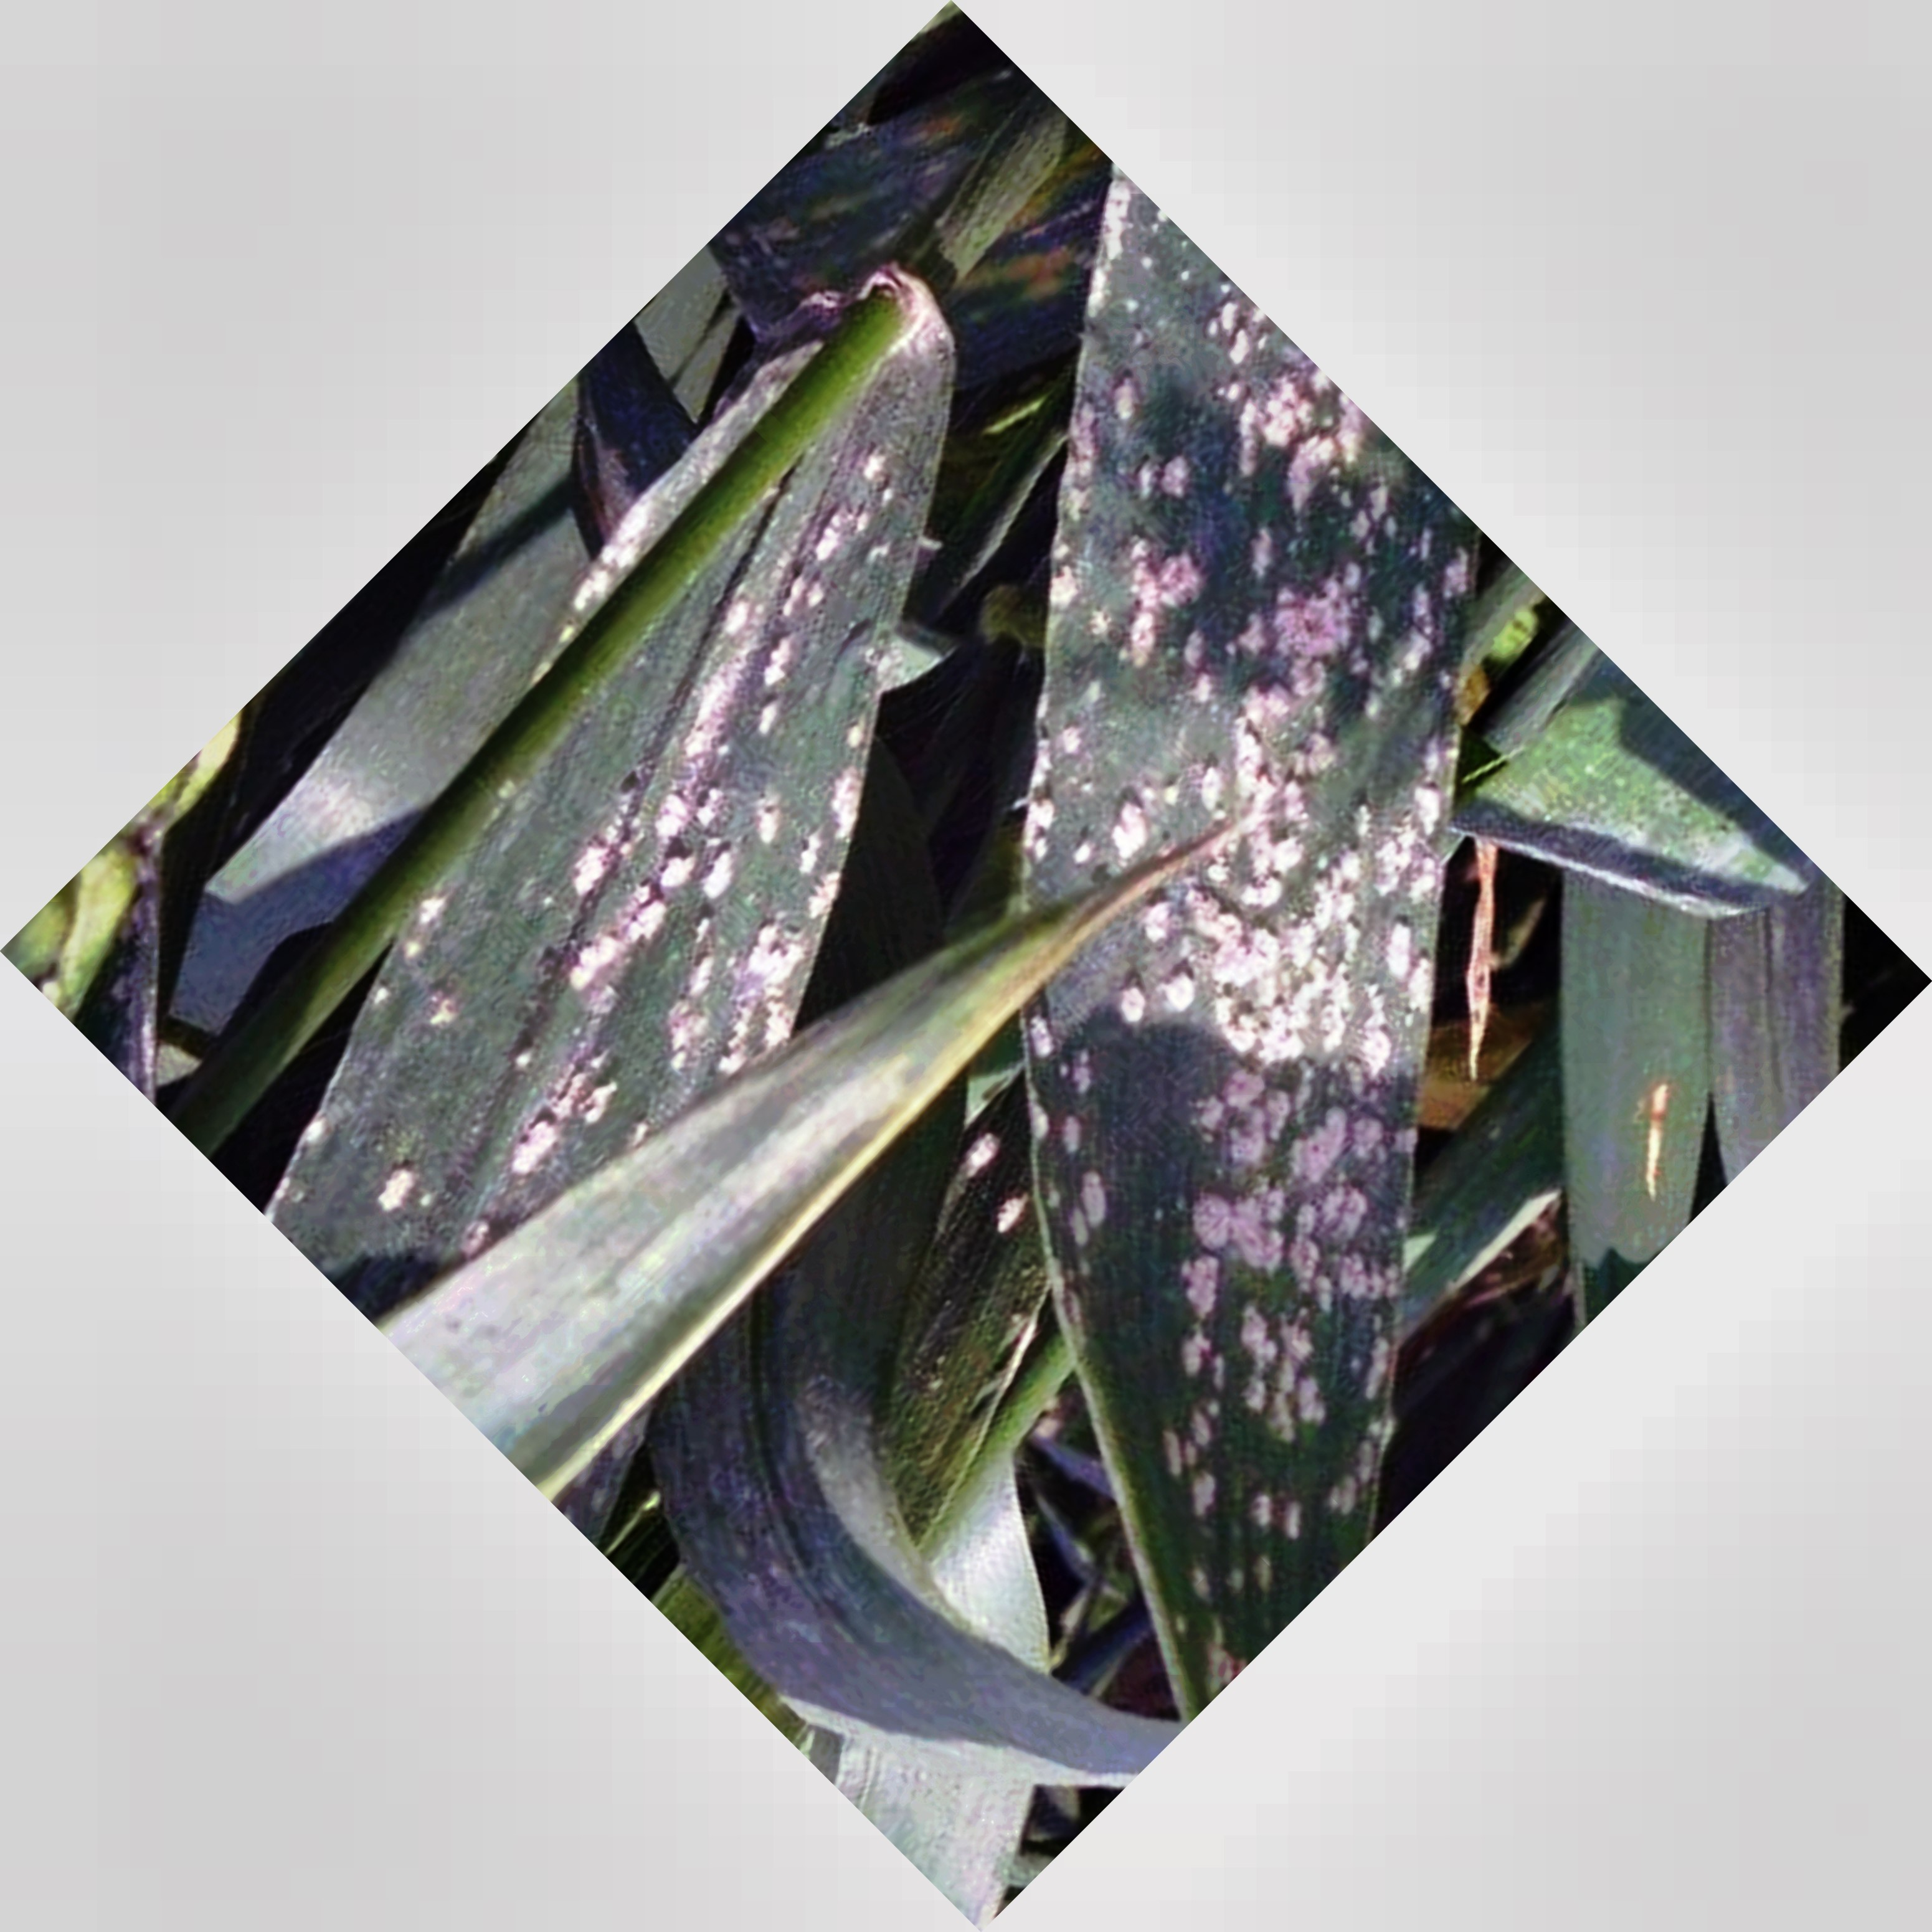Powdery Mildew: (1024, 191, 1468, 1552)
